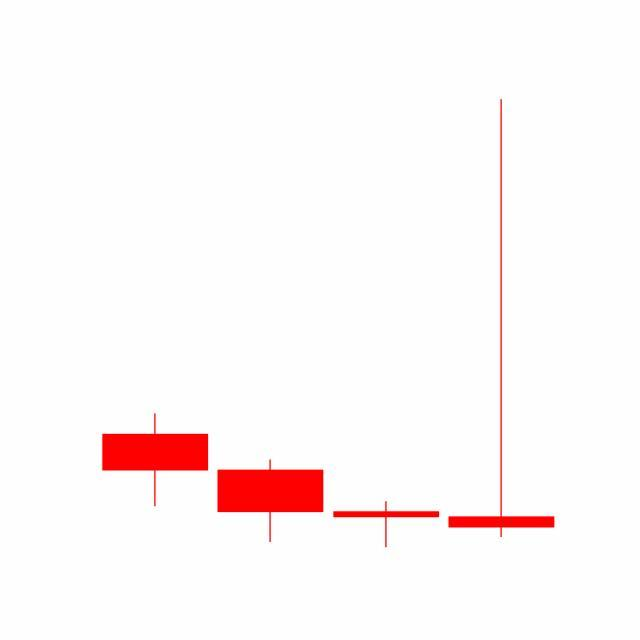Gravestone Doji: (444, 95, 560, 543)
